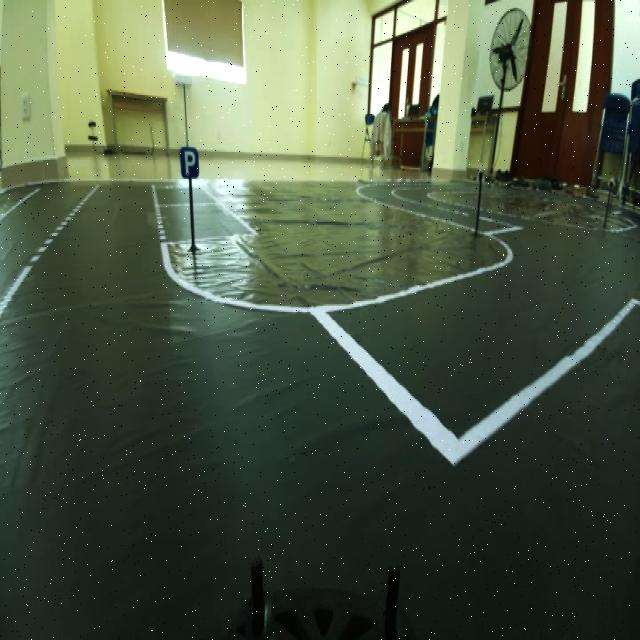parking: (176, 135, 207, 180)
